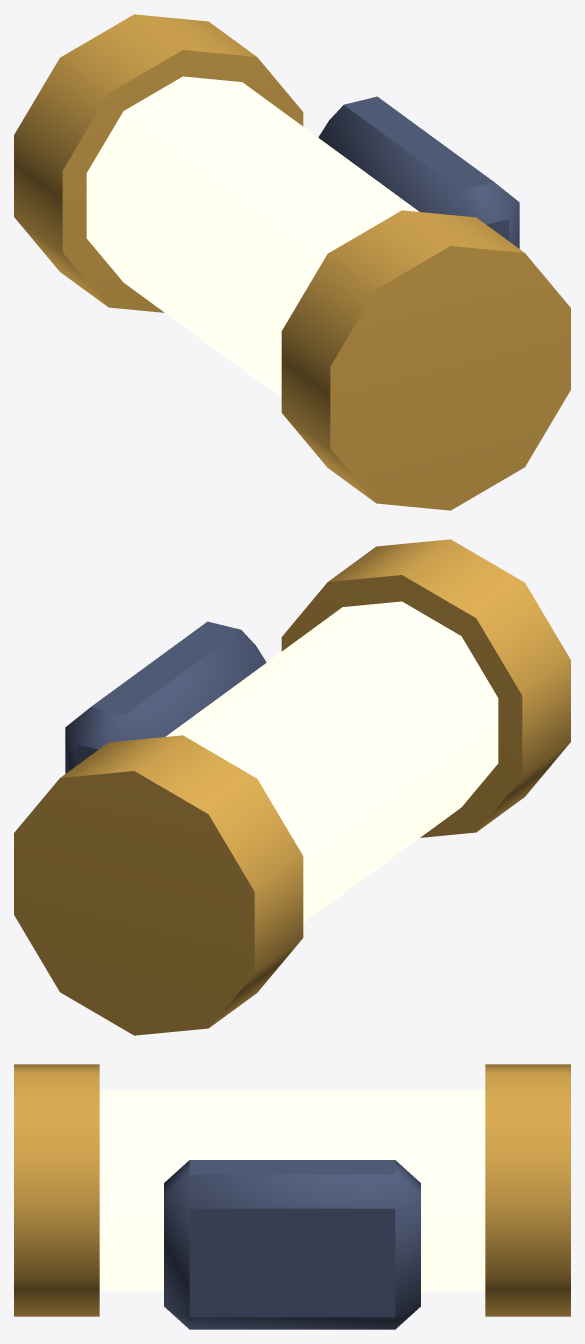
The model's file is mod_core_blitz.glb.
The picture shows the model from 3 angles, top to bottom: view 1: azimuth 30°, elevation 25°; view 2: azimuth 150°, elevation 25°; view 3: azimuth 270°, elevation 25°; orthographic projection. The views are drawn at different scales.
Parts seen in each view (by area): view 1: body, lens_glow; view 2: body, lens_glow; view 3: body, lens_glow.
Boxes of the visible parts, x1,y1,x2,y2 form: body: (14,14,570,510); lens_glow: (86,76,419,397); body: (14,539,570,1035); lens_glow: (165,601,498,922); body: (14,1064,570,1329); lens_glow: (99,1089,485,1291).
Bounding box in the file's own units: 0.0685 × 0.06 × 0.13.
